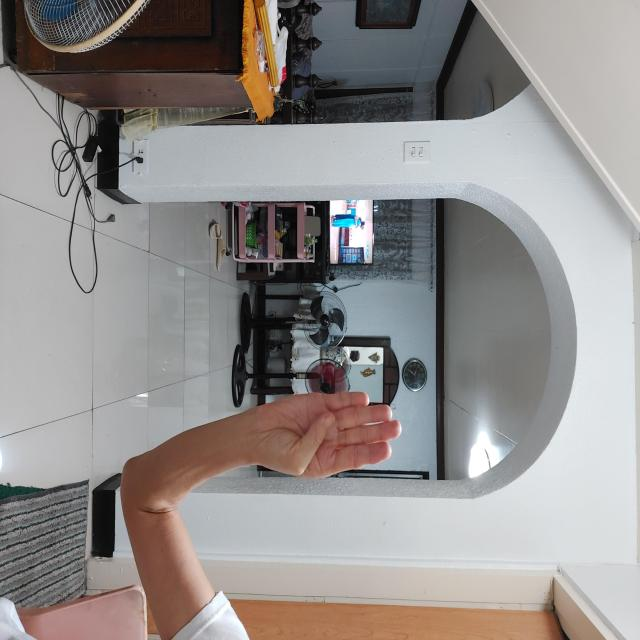B: (391, 237, 479, 392)
